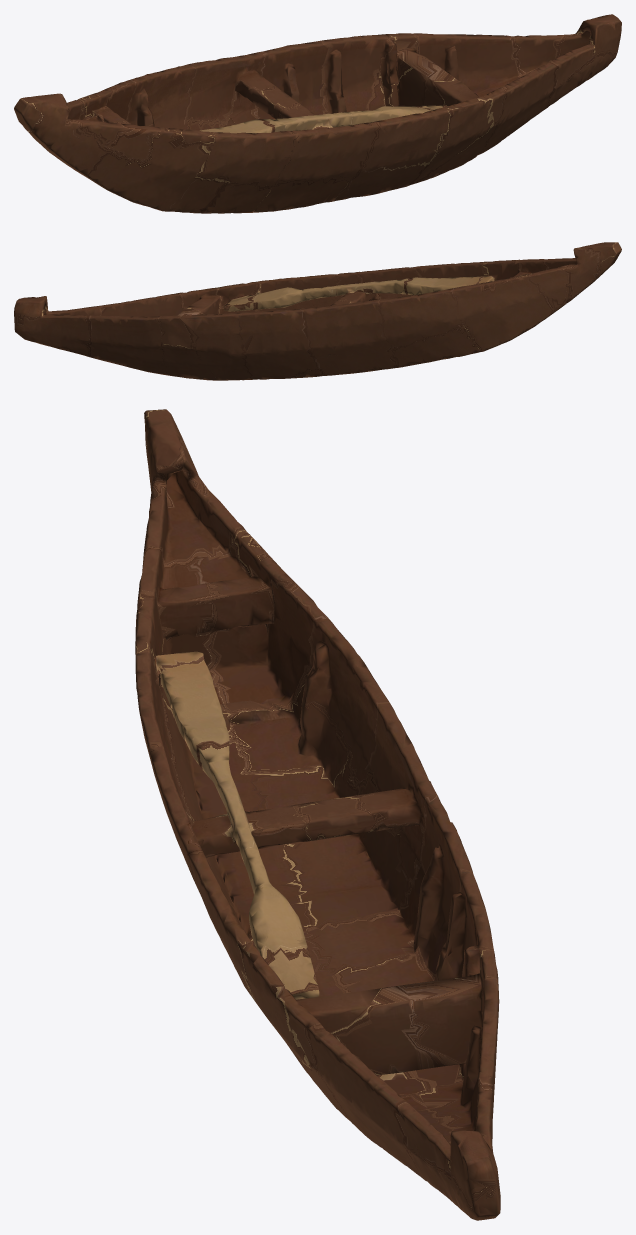
File: mô+hình+thuyền+sampan+gỗ+3d.glb
3 views of the same model, one above another, from view 1: azimuth 30°, elevation 25°; view 2: azimuth 150°, elevation 25°; view 3: azimuth 270°, elevation 25° (orthographic). The views are drawn at different scales.
Visible parts, largest first — view 1: tripo_node_8d10c46a-ca54-4b57-ade5-ea871445eb40; view 2: tripo_node_8d10c46a-ca54-4b57-ade5-ea871445eb40; view 3: tripo_node_8d10c46a-ca54-4b57-ade5-ea871445eb40.
Part boxes in pixels (x1=…): tripo_node_8d10c46a-ca54-4b57-ade5-ea871445eb40: x1=14, y1=14, x2=621, y2=213; tripo_node_8d10c46a-ca54-4b57-ade5-ea871445eb40: x1=14, y1=242, x2=621, y2=380; tripo_node_8d10c46a-ca54-4b57-ade5-ea871445eb40: x1=135, y1=409, x2=500, y2=1220.
Size of the model in its own units: 0.9781 by 0.3045 by 0.2961.
Materials: 1 (1 with a texture image).
